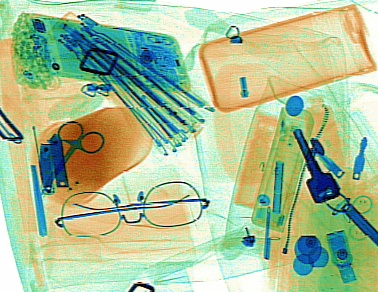scissors: (38, 118, 107, 204)
